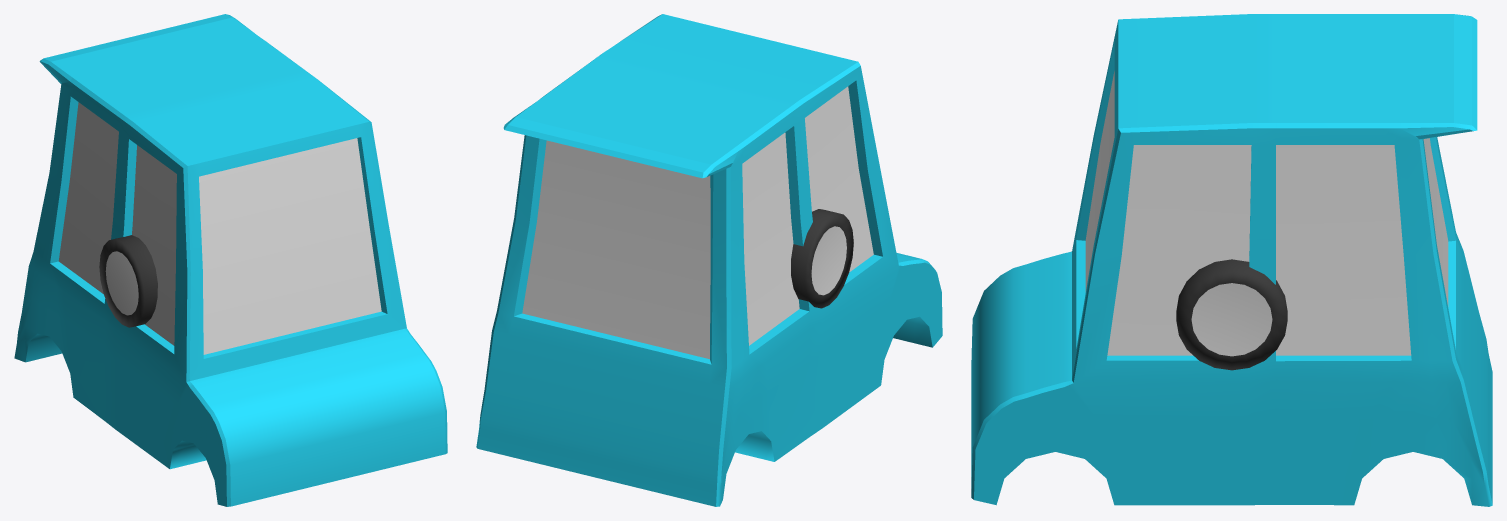
File: car 6.fbx
3 views of the same model, side by side, from view 1: azimuth 30°, elevation 25°; view 2: azimuth 150°, elevation 25°; view 3: azimuth 270°, elevation 25° (orthographic). The views are drawn at different scales.
Parts seen in each view (by area): view 1: car_6_chasis, car_6_right_wheel; view 2: car_6_chasis, car_6_right_wheel, car_6_back_wheel; view 3: car_6_chasis, car_6_back_wheel, car_6_left_wheel.
Part boxes in pixels (x1=…): car_6_chasis: x1=14, y1=14, x2=447, y2=506; car_6_right_wheel: x1=99, y1=235, x2=157, y2=327; car_6_chasis: x1=476, y1=14, x2=942, y2=506; car_6_right_wheel: x1=791, y1=209, x2=853, y2=308; car_6_back_wheel: x1=791, y1=226, x2=817, y2=306; car_6_chasis: x1=971, y1=14, x2=1492, y2=506; car_6_back_wheel: x1=1176, y1=269, x2=1287, y2=370; car_6_left_wheel: x1=1176, y1=259, x2=1287, y2=314.
Size of the model in its own units: 98.97 by 126 by 161.
